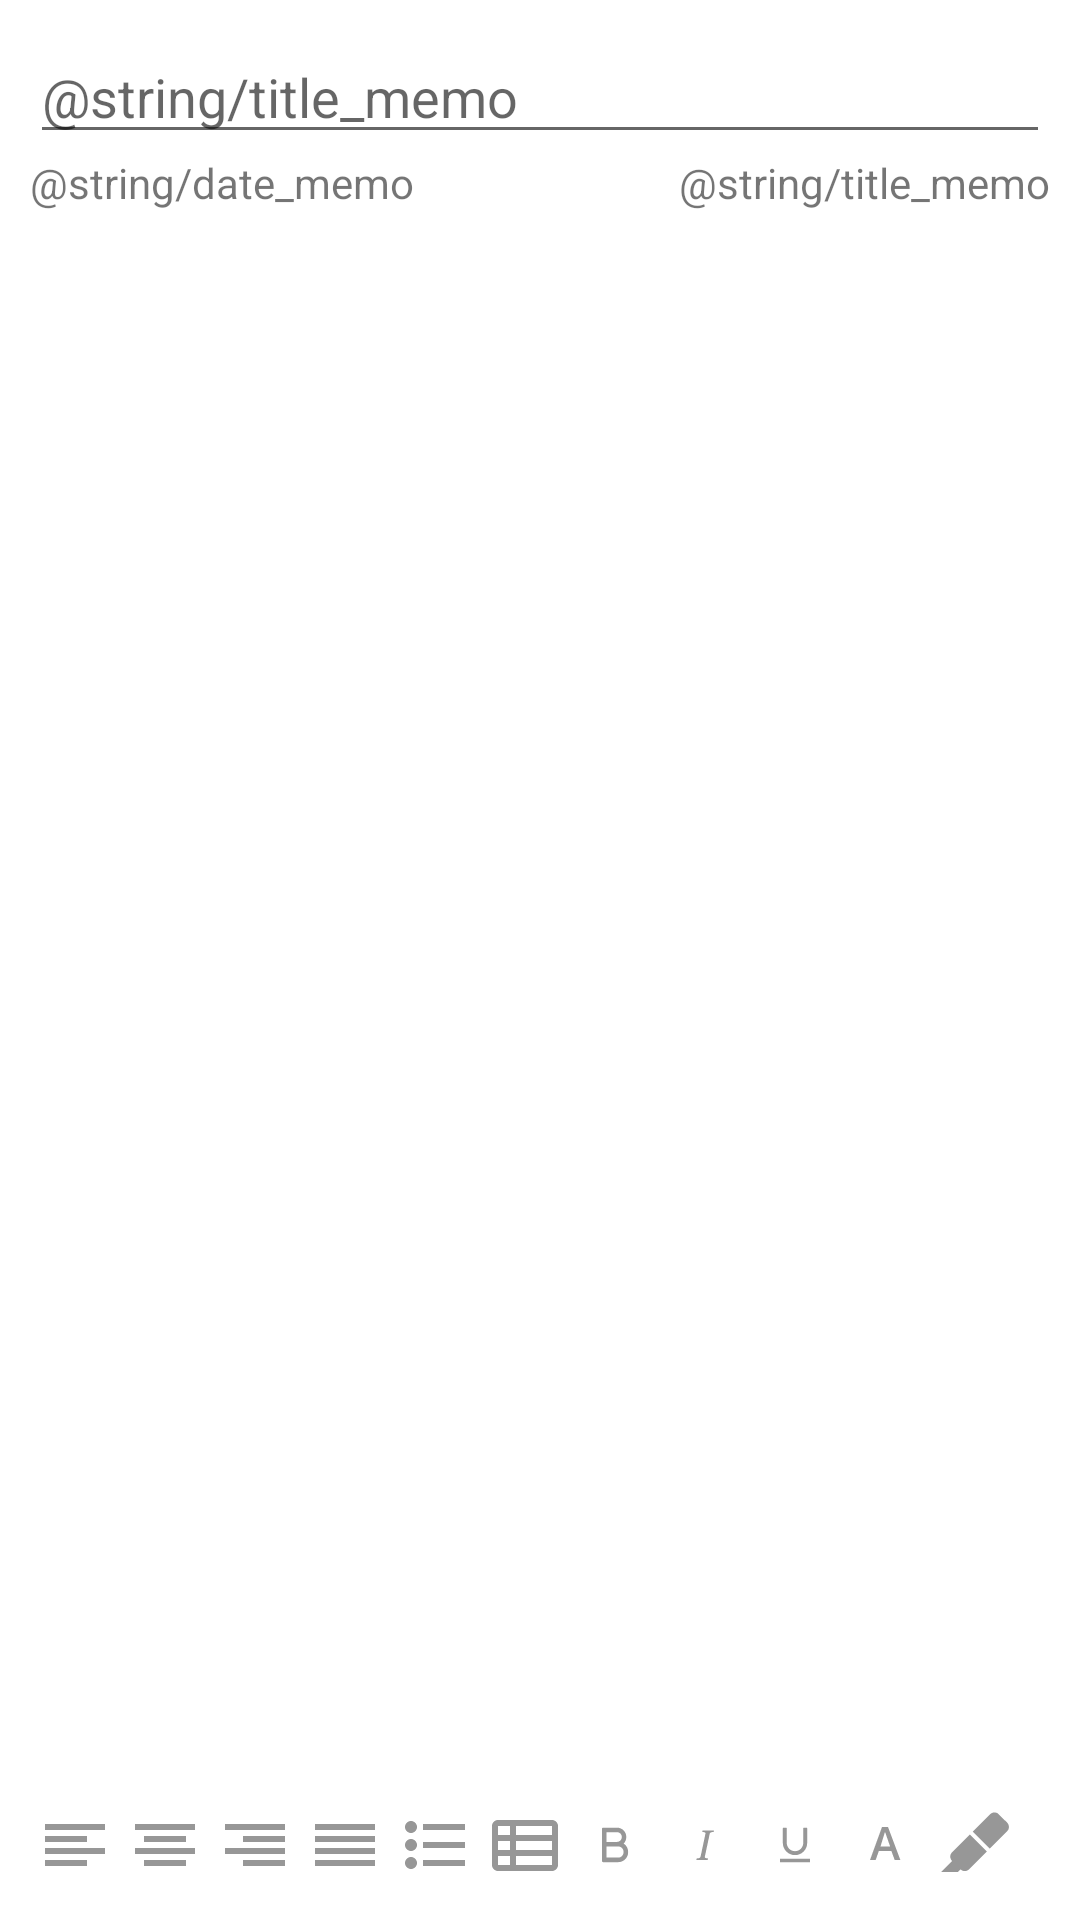

Icon bounding boxes for this 1080×1920 phone screenshot, format (x1, y1, x2, y2):
italic: (696, 1830, 714, 1860)
justify: (315, 1824, 375, 1866)
left alignment: (45, 1824, 105, 1866)
marker: (941, 1812, 1009, 1872)
midalign: (135, 1824, 195, 1866)
pointlist: (405, 1821, 465, 1869)
rightalign: (225, 1824, 285, 1866)
table: (492, 1820, 558, 1871)
textcolor: (870, 1827, 900, 1860)
underline: (780, 1827, 810, 1863)
